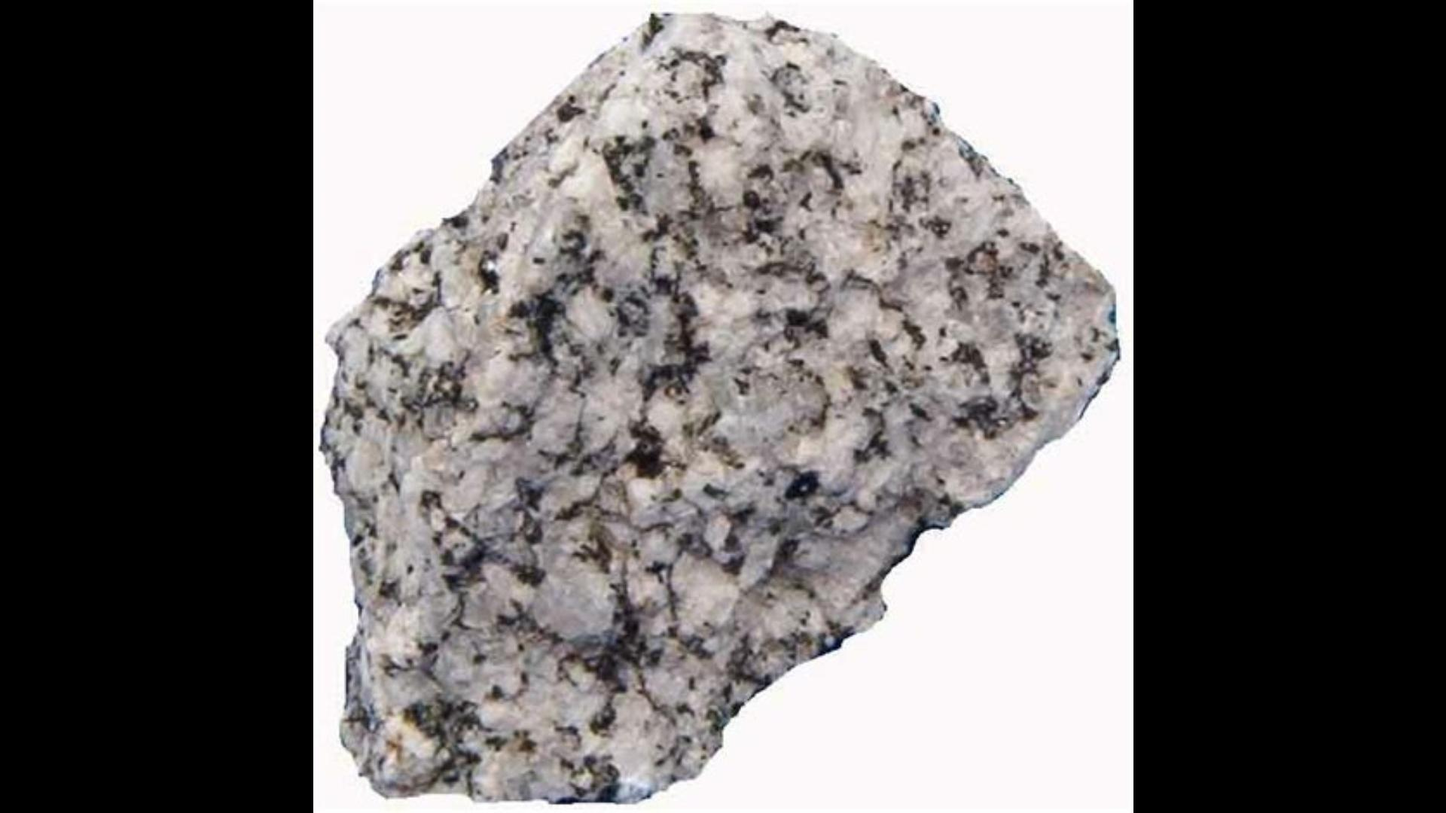rock: (319, 16, 1117, 797)
